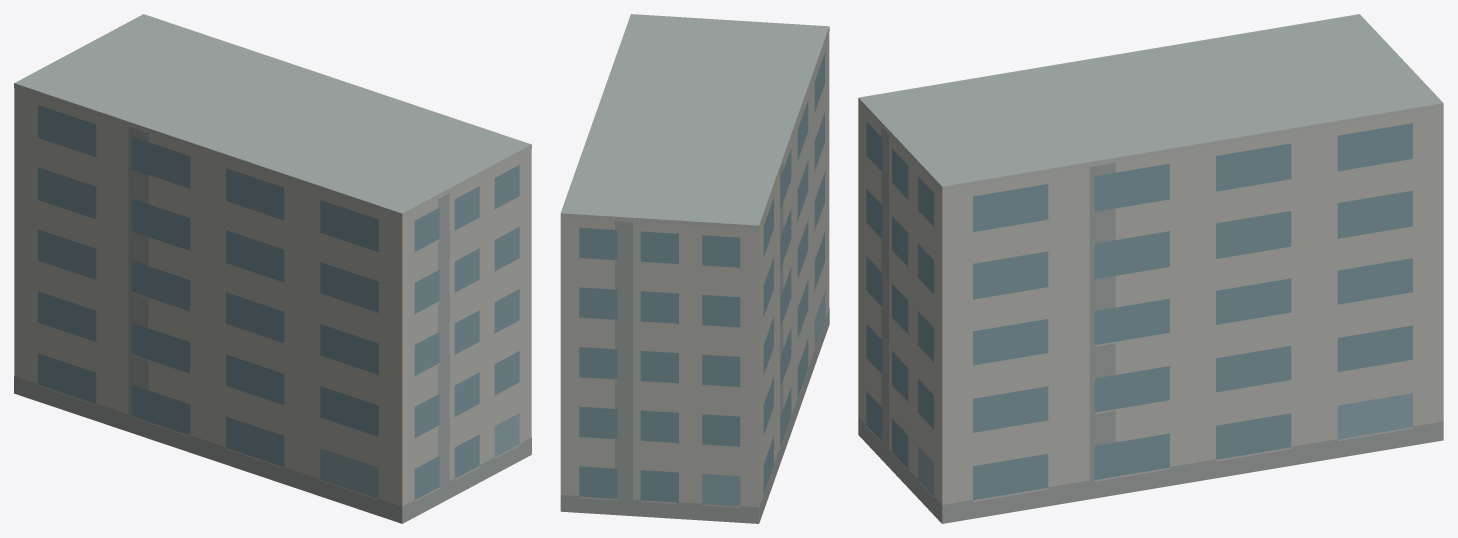
Rendered from survey-upis-32861311.glb.
The picture shows the model from 3 angles, left to right: view 1: azimuth 30°, elevation 25°; view 2: azimuth 150°, elevation 25°; view 3: azimuth 270°, elevation 25°; orthographic projection. The views are drawn at different scales.
Parts seen in each view (by area): view 1: survey-upis-32861311.tmp; view 2: survey-upis-32861311.tmp; view 3: survey-upis-32861311.tmp.
Boxes of the visible parts, box(x1,y1,x2,y2) form: survey-upis-32861311.tmp: box(14, 14, 531, 523); survey-upis-32861311.tmp: box(560, 14, 829, 523); survey-upis-32861311.tmp: box(858, 14, 1443, 523).
Size of the model in its own units: 17.57 by 16 by 25.17.
